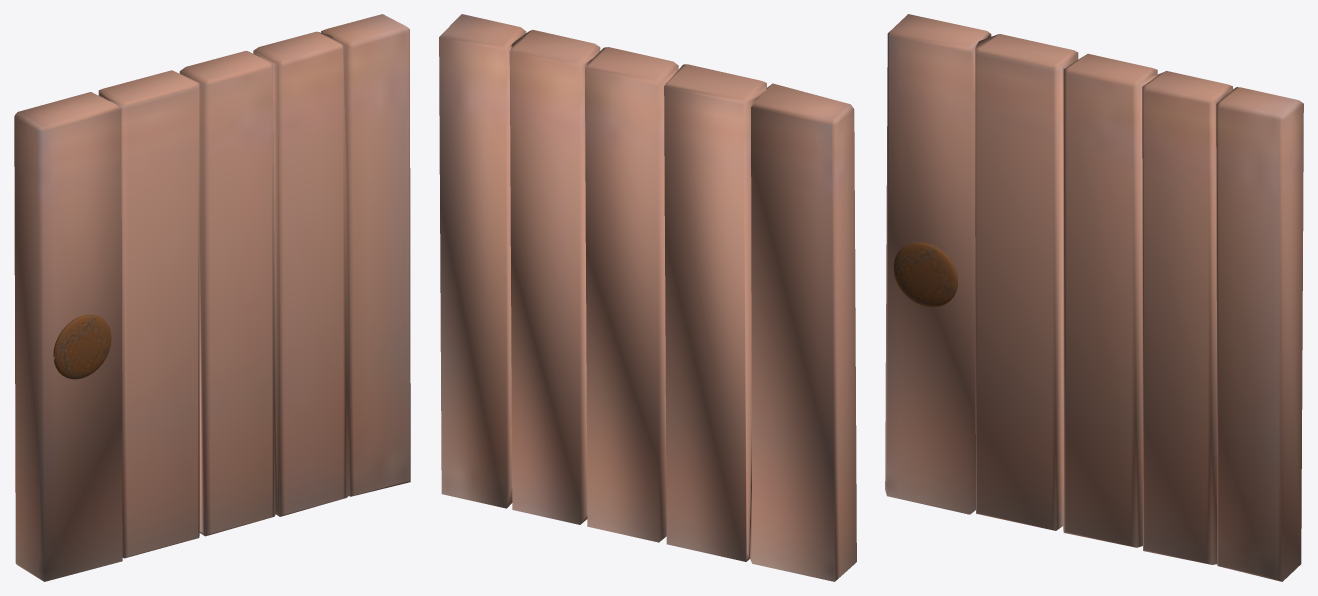
File: door.glb
3 renders of one model, left to right at view 1: azimuth 30°, elevation 25°; view 2: azimuth 150°, elevation 25°; view 3: azimuth 330°, elevation 25°, orthographic. The views are drawn at different scales.
Size of the model in its own units: 0.6581 by 0.7469 by 0.1125.
2 materials, 2 textured.
